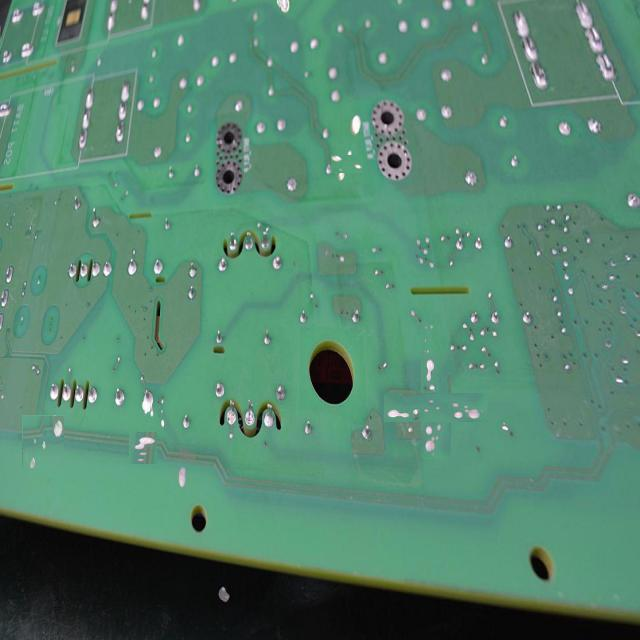spillover: (403, 374, 469, 441), (22, 415, 64, 468), (128, 433, 158, 464), (334, 152, 360, 177), (347, 109, 364, 136)
